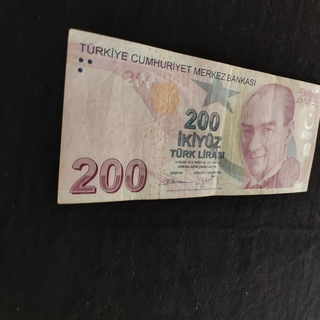200TLFront: (55, 27, 320, 204)
